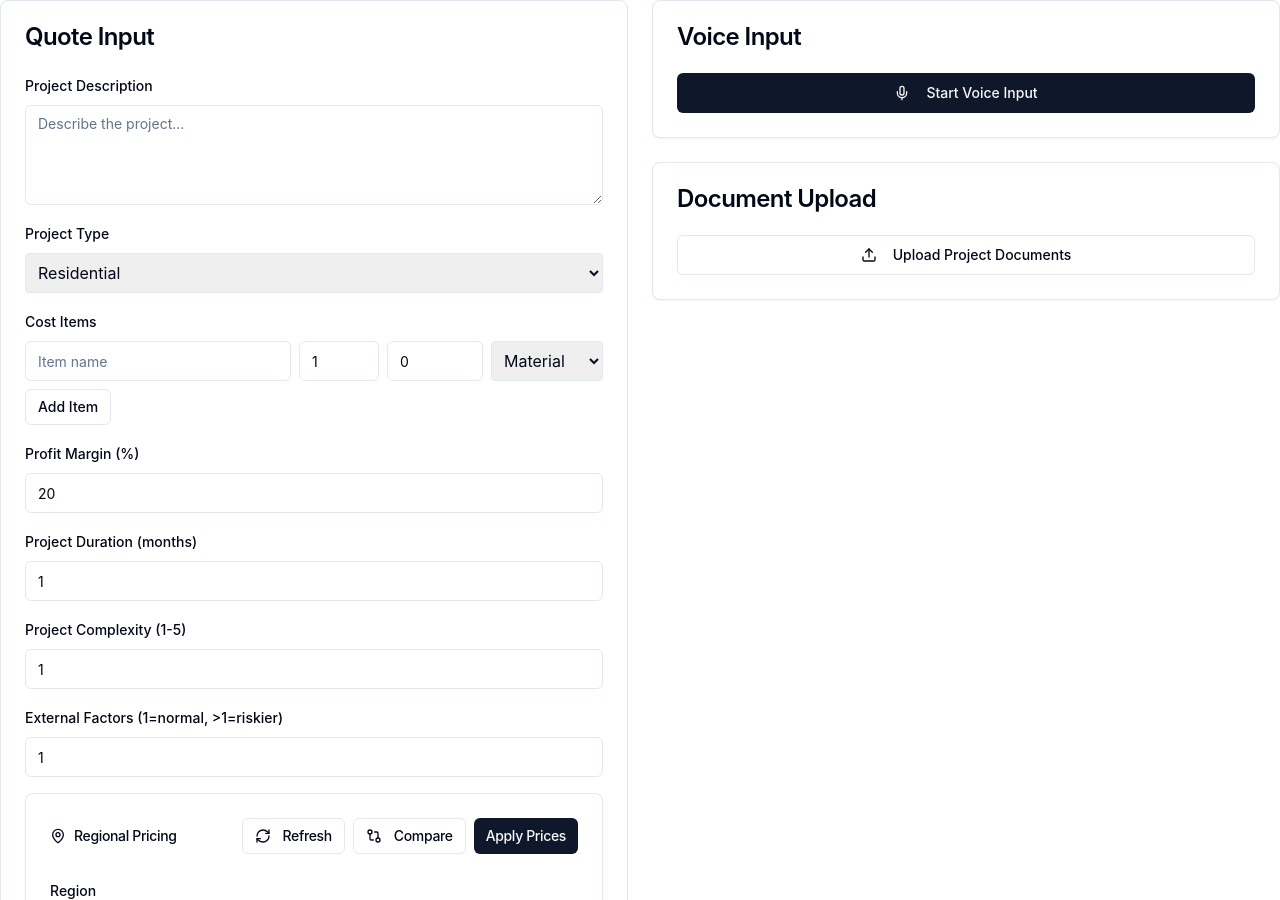
Test case: QuoteEngine › shows error when microphone is not available
Click the button "Start Voice Input": (966, 93) [677,73,1255,113]
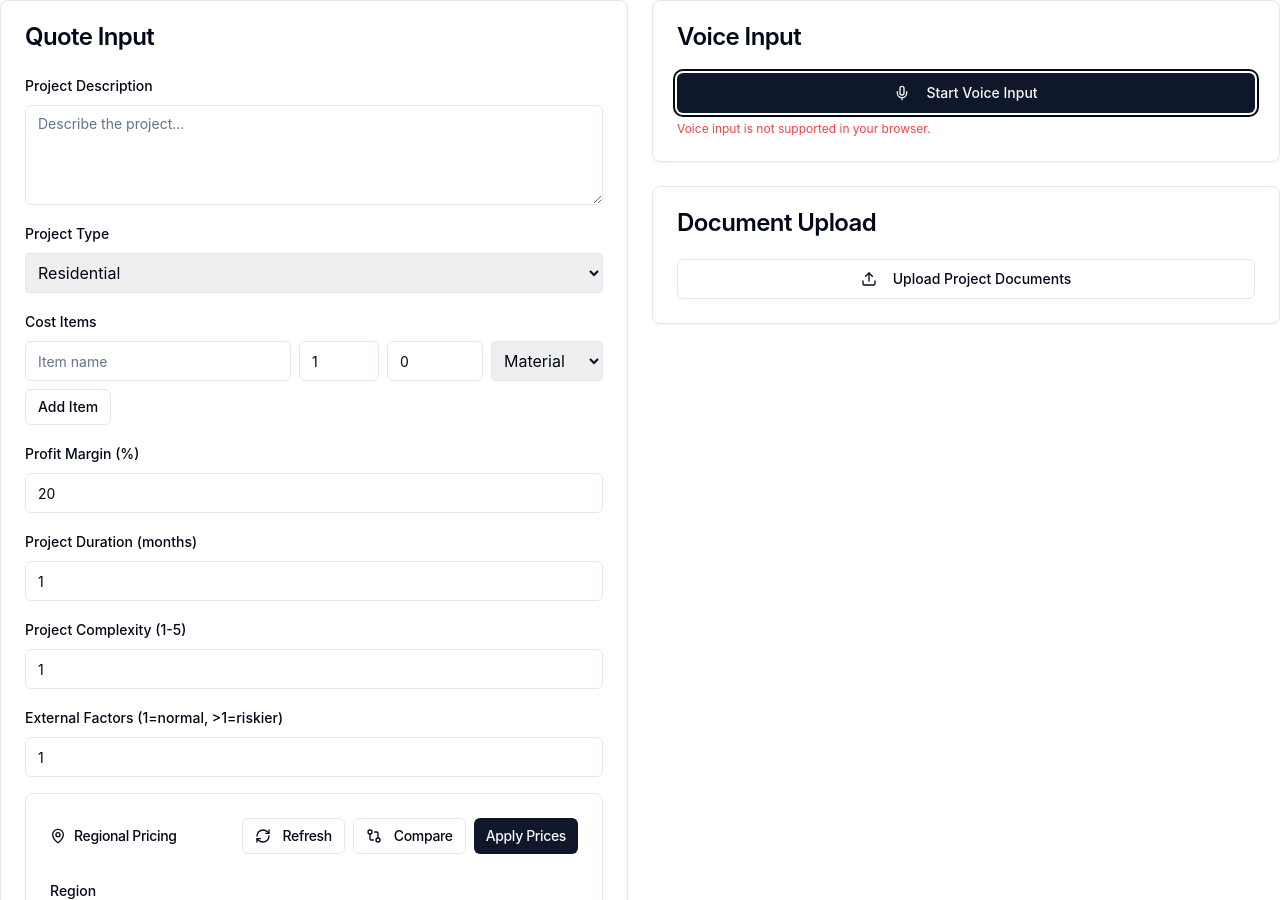
Check: the text "Voice input is not supported in your browser." is shown, box [677,121,931,136]
